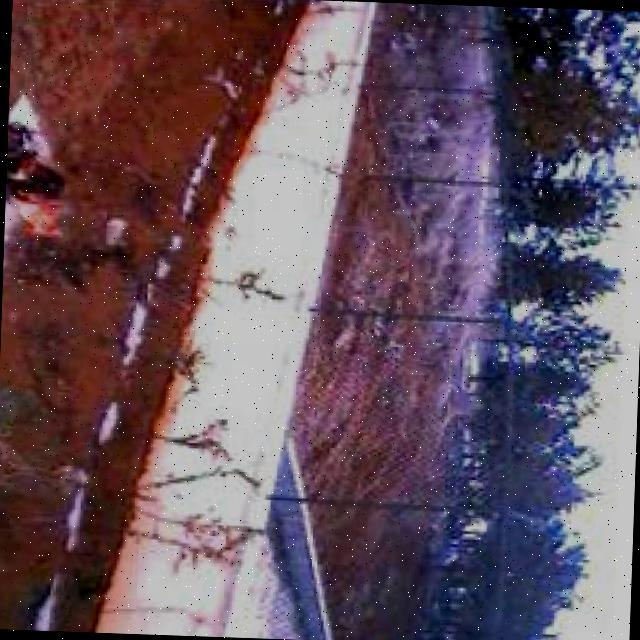fire: (2, 125, 78, 243)
